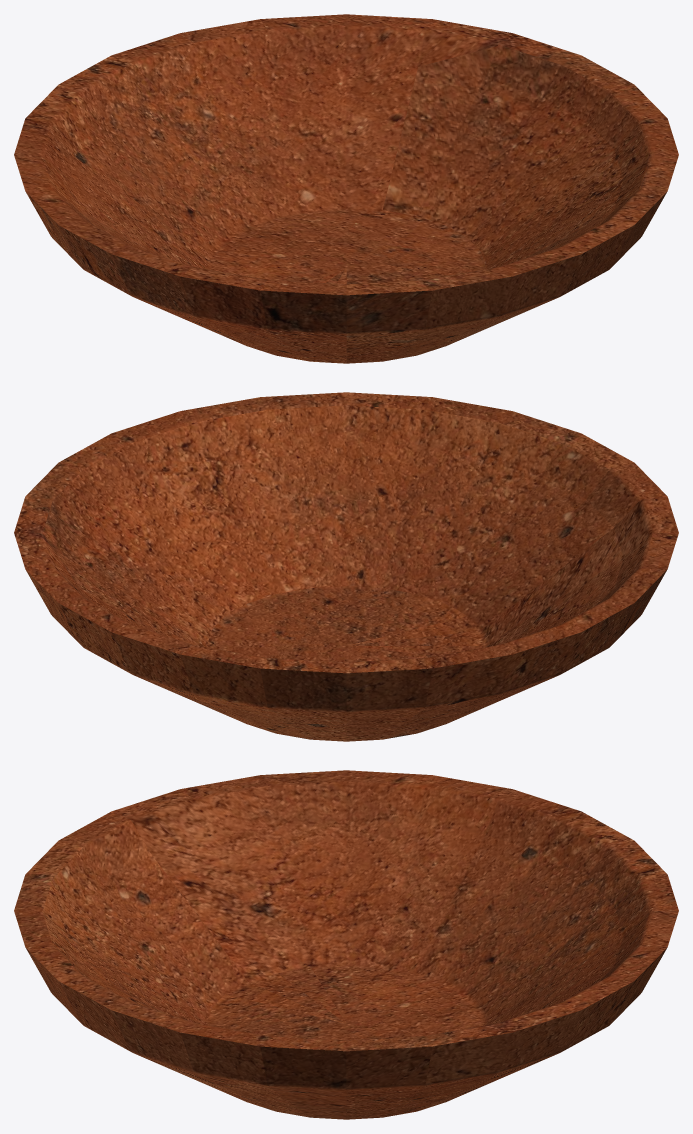
File: ceramic-bowl-v01-photo.glb
The picture shows the model from 3 angles, top to bottom: view 1: azimuth 30°, elevation 25°; view 2: azimuth 150°, elevation 25°; view 3: azimuth 270°, elevation 25°; orthographic projection.
Visible parts, largest first — view 1: ceramic-bowl; view 2: ceramic-bowl; view 3: ceramic-bowl.
Boxes of the visible parts, left/top/right/bottom form: ceramic-bowl: left=14, top=14, right=678, bottom=363; ceramic-bowl: left=14, top=392, right=678, bottom=741; ceramic-bowl: left=14, top=770, right=678, bottom=1119.
Size of the model in its own units: 0.48 by 0.12 by 0.48.
1 material, 1 textured.
